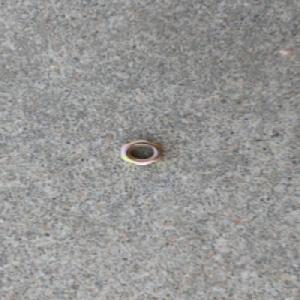Nut: (118, 139, 163, 165)
